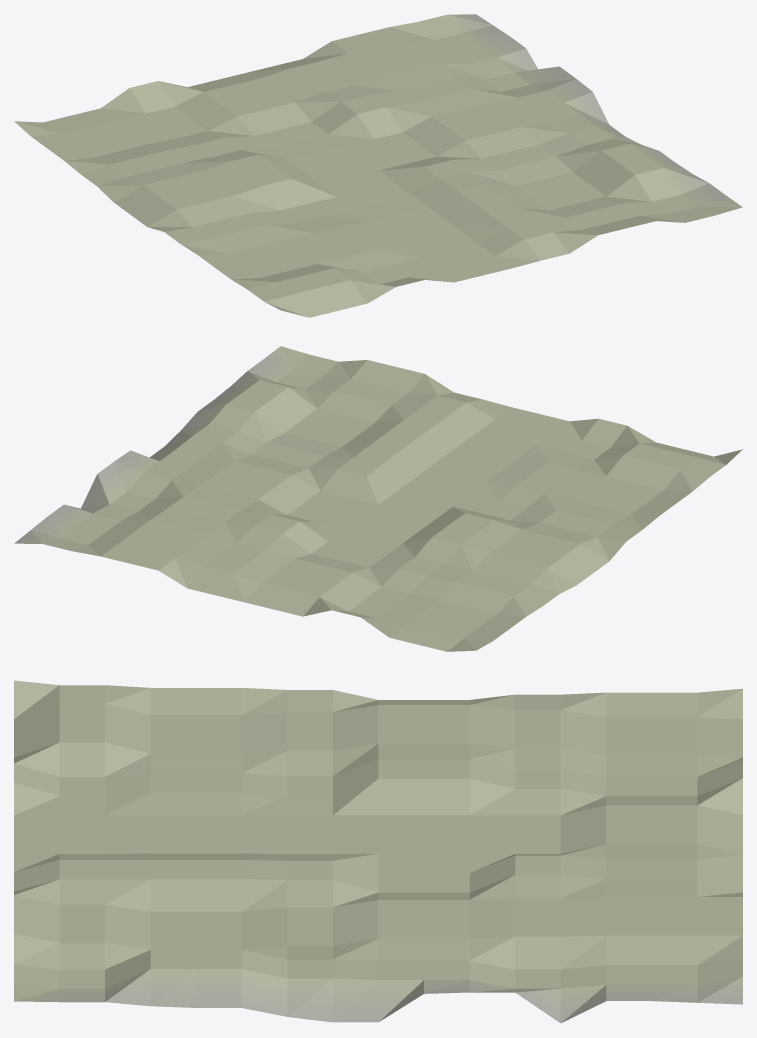
3 renders of one model, top to bottom at view 1: azimuth 30°, elevation 25°; view 2: azimuth 150°, elevation 25°; view 3: azimuth 270°, elevation 25°, orthographic. The views are drawn at different scales.
Bounding box in the file's own units: 32 × 1.71 × 32.
